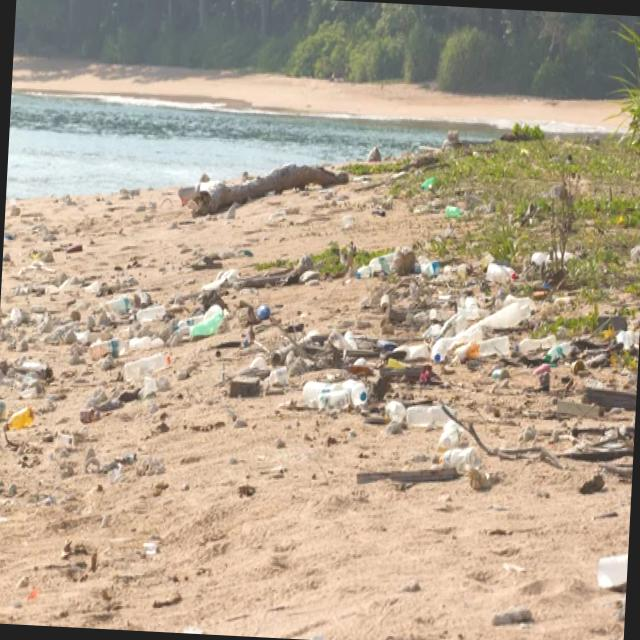garbage: (33, 226, 640, 490)
